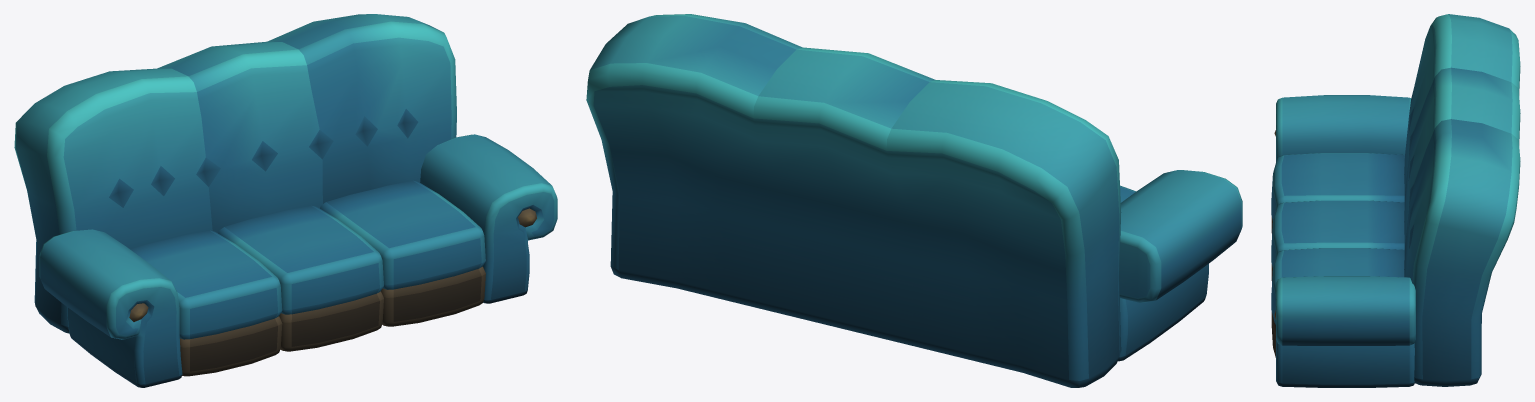
Rendered from sofa1_2_LOD_setup.fbx.
3 renders of one model, left to right at view 1: azimuth 30°, elevation 25°; view 2: azimuth 150°, elevation 25°; view 3: azimuth 270°, elevation 25°, orthographic. The views are drawn at different scales.
Visible parts, largest first — view 1: sofa1_2_LOD0; view 2: sofa1_2_LOD0; view 3: sofa1_2_LOD0.
Part boxes in pixels (x1,y1,x2,y2): sofa1_2_LOD0: [14, 14, 557, 387]; sofa1_2_LOD0: [586, 14, 1242, 387]; sofa1_2_LOD0: [1271, 14, 1520, 387].
Size of what is drawn, in the model's own units: 223 by 106 by 111.
